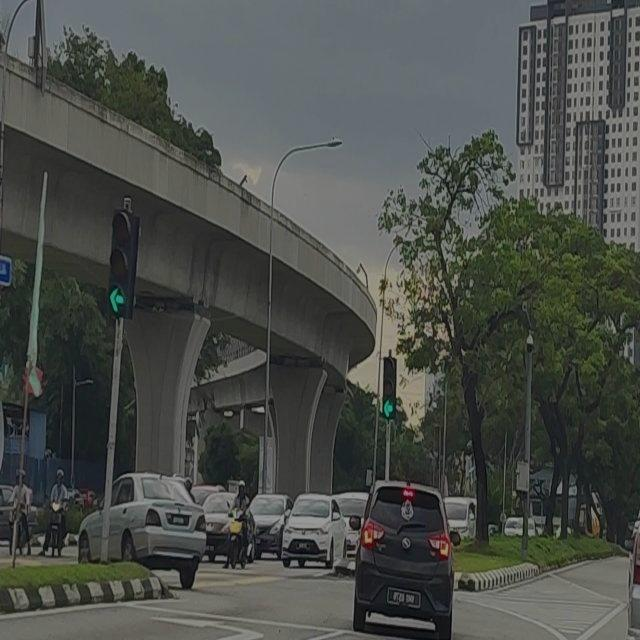Green: (107, 206, 137, 317), (382, 357, 397, 420)
